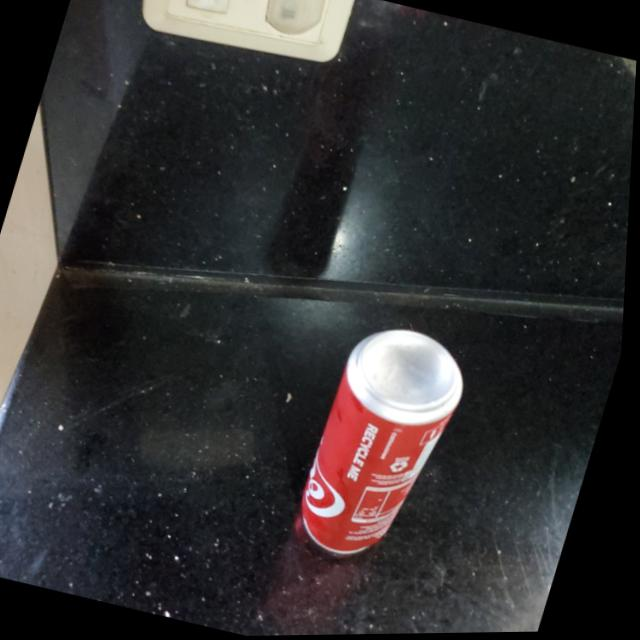coke: (296, 317, 484, 573)
